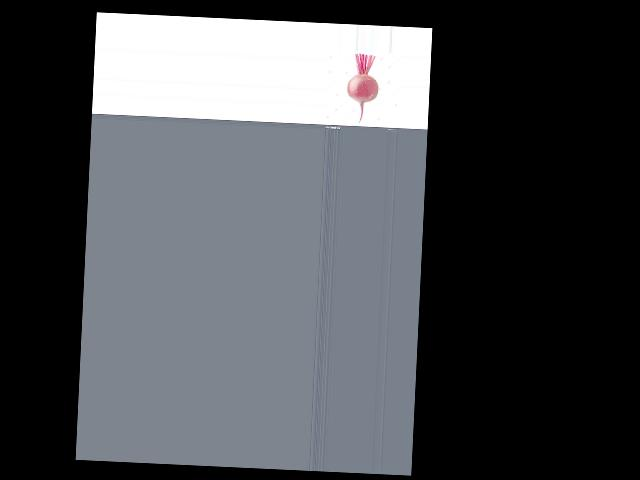beet: (345, 53, 380, 125)
